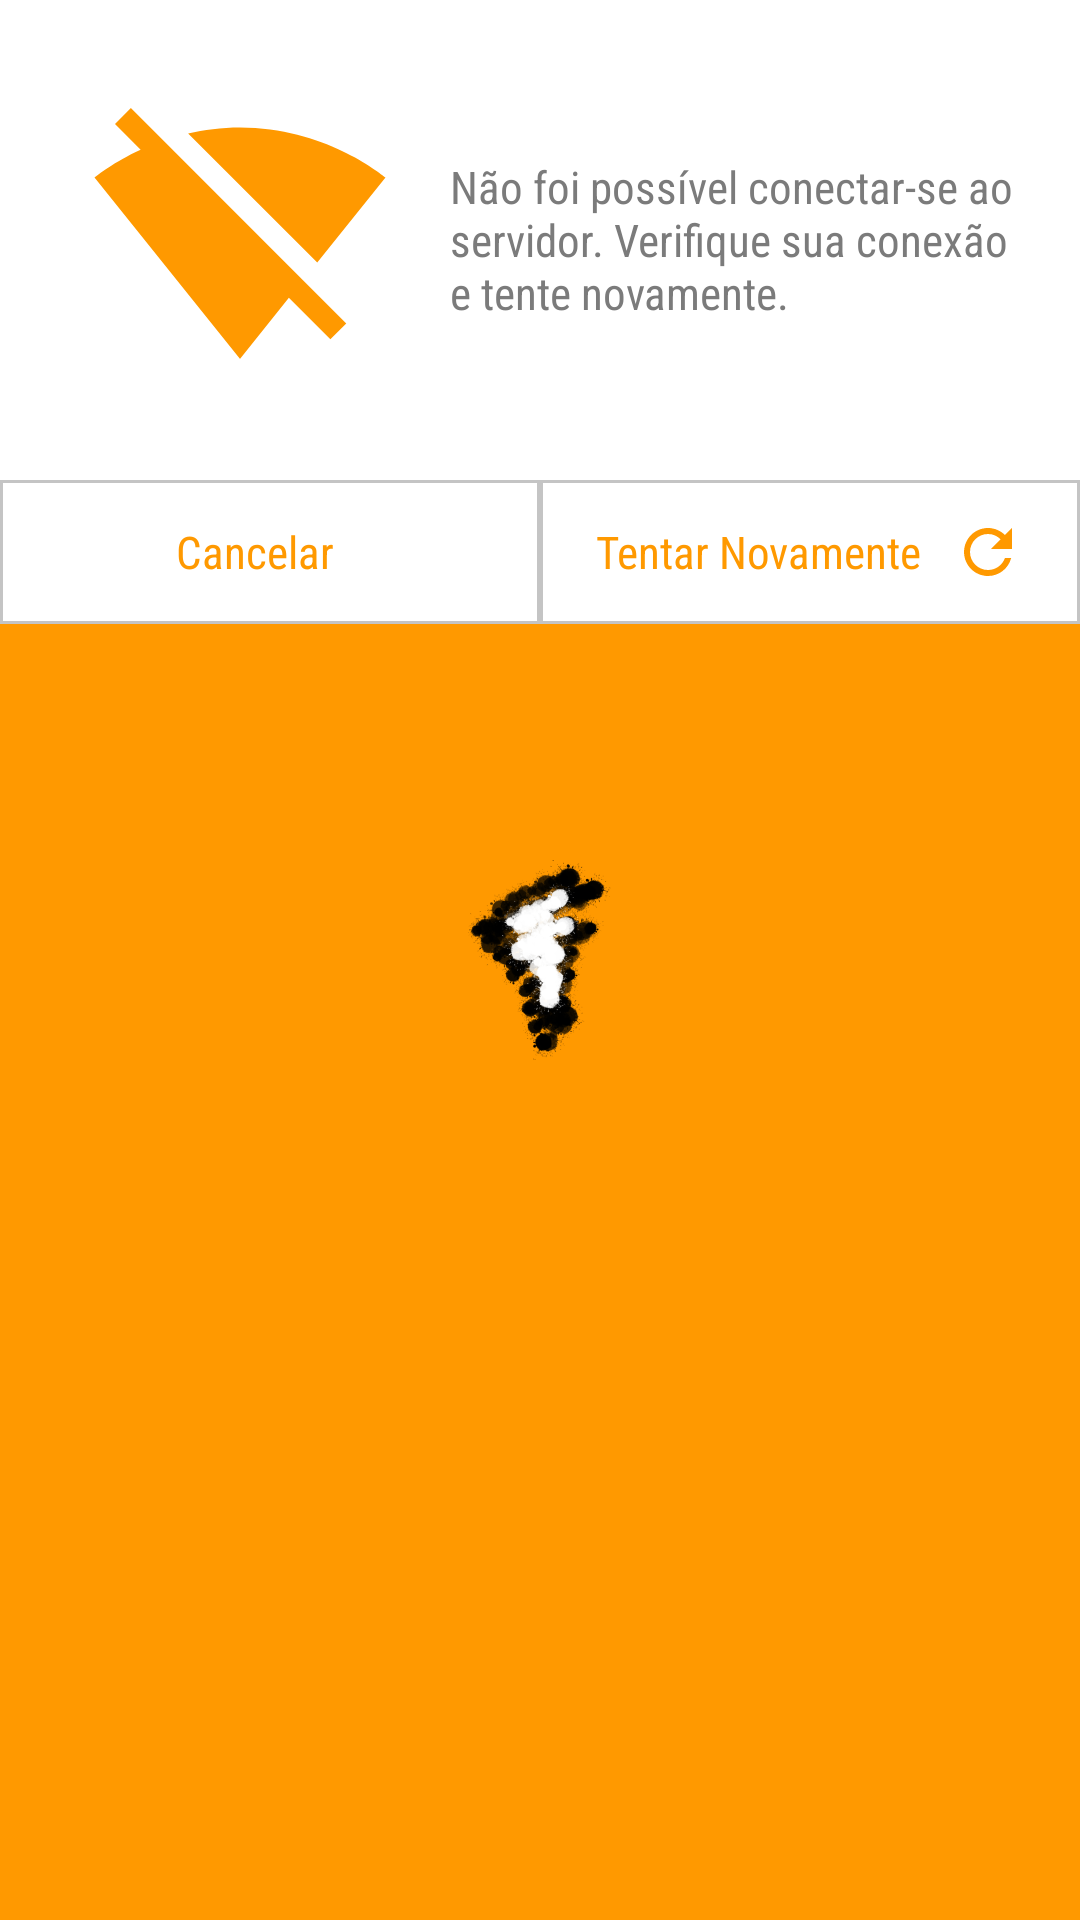

Screen size 1080×1920. Icon name, then its center in pixels as point (x, y):
noconnection: point (240, 233)
tryagain: point (988, 552)
